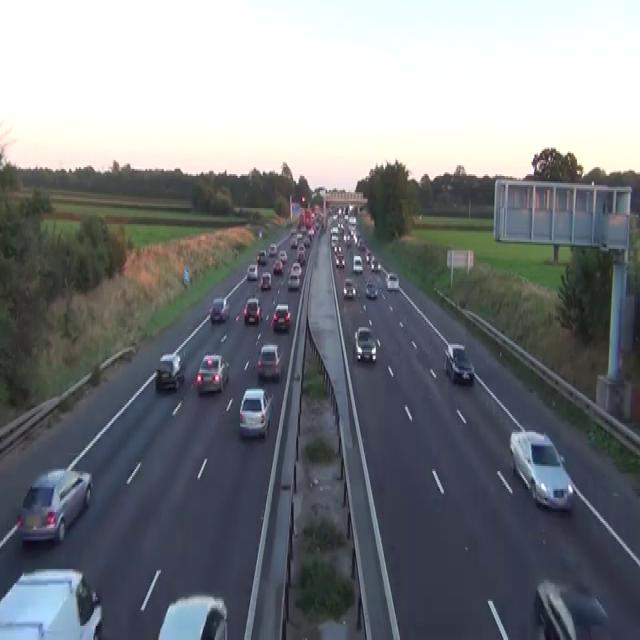Car: (0, 567, 103, 638), (16, 468, 92, 542), (509, 428, 573, 512), (535, 578, 608, 638), (157, 594, 227, 638), (238, 386, 273, 437), (196, 352, 229, 395), (444, 343, 474, 384), (155, 352, 184, 391), (257, 343, 282, 381), (354, 325, 376, 361), (209, 297, 230, 323), (271, 304, 291, 331), (243, 297, 262, 323), (343, 277, 356, 299), (365, 277, 378, 299), (385, 270, 399, 290), (259, 270, 271, 290), (287, 272, 300, 290), (352, 254, 363, 274), (246, 263, 258, 281), (296, 245, 305, 265), (290, 262, 301, 278), (273, 258, 283, 274), (335, 252, 345, 268), (370, 256, 380, 272), (257, 249, 266, 263), (278, 249, 287, 263), (269, 242, 277, 256), (331, 235, 339, 249), (343, 231, 351, 245), (357, 236, 365, 249), (289, 236, 297, 249), (365, 249, 372, 263), (348, 215, 356, 224), (303, 237, 310, 247), (308, 226, 314, 236), (290, 228, 296, 235), (258, 230, 262, 238)
